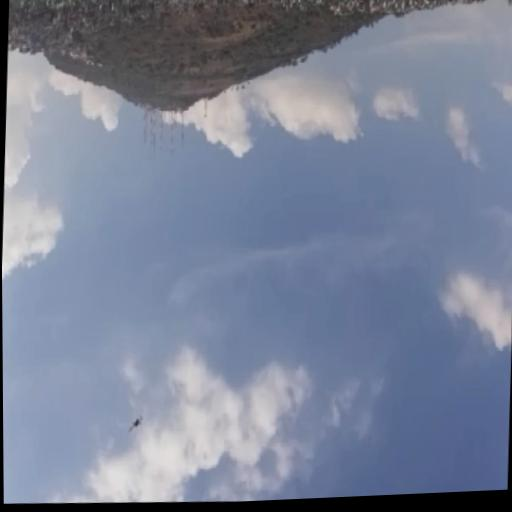drones: (123, 409, 145, 435)
